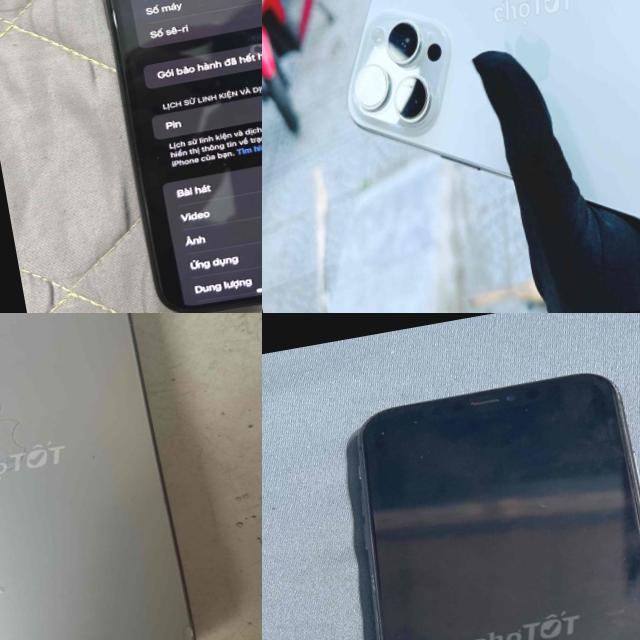scratch: (367, 408, 433, 444), (532, 497, 556, 514), (412, 448, 430, 462), (0, 577, 6, 598)
